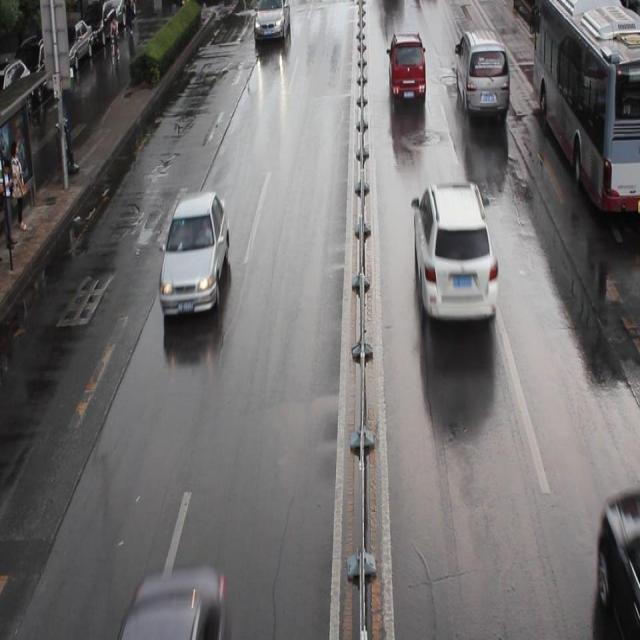car: (412, 179, 498, 321), (159, 189, 229, 315), (595, 490, 639, 640), (387, 33, 426, 102), (253, 1, 290, 43)
truck: (455, 28, 508, 114)
van: (531, 1, 640, 211)
